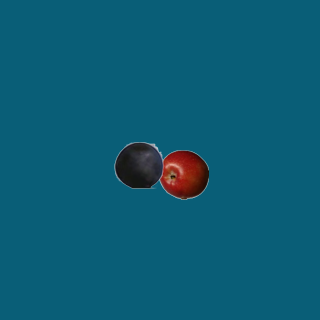Apple Braeburn: (158, 149, 208, 199)
Grape Blue: (113, 139, 163, 189)
